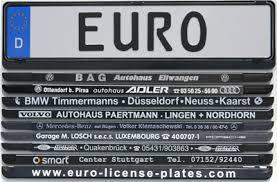E: (76, 11, 107, 53)
H: (171, 169, 182, 178)
O: (178, 11, 209, 53)
R: (145, 11, 175, 51)
U: (109, 10, 140, 54)
